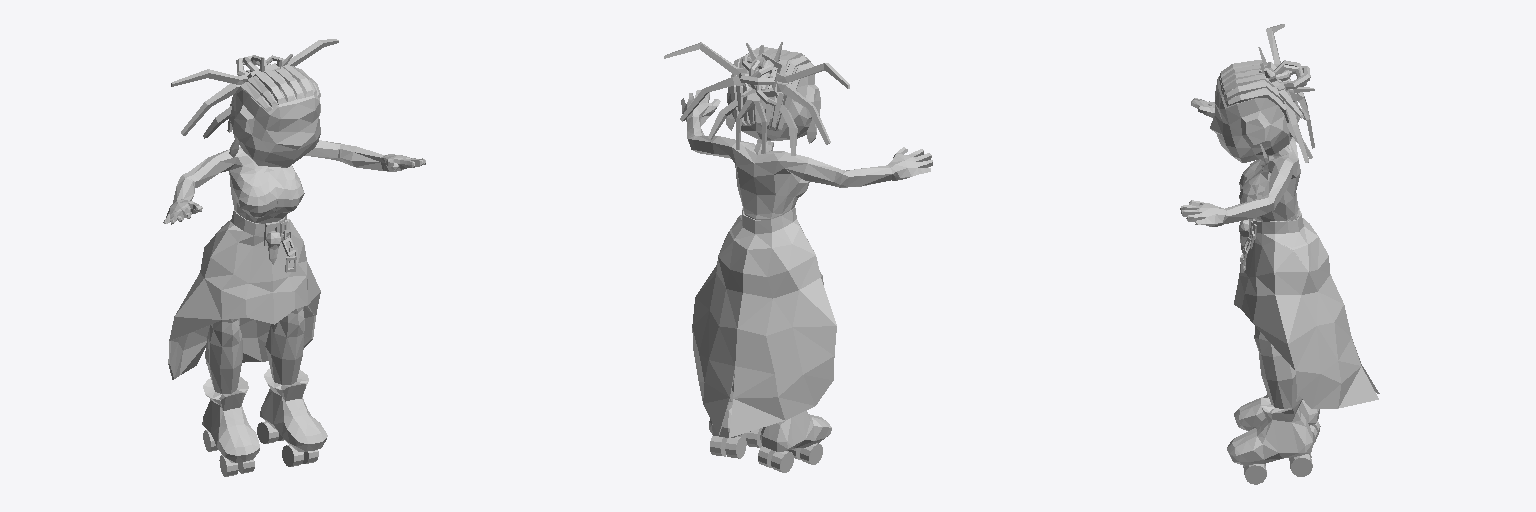
The model's file is bruja_000155.obj.
The picture shows the model from 3 angles: view 1: azimuth 30°, elevation 25°; view 2: azimuth 150°, elevation 25°; view 3: azimuth 270°, elevation 25°; orthographic projection.
Visible parts, largest first — view 1: Bruja_Plane.001; view 2: Bruja_Plane.001; view 3: Bruja_Plane.001.
Part boxes in pixels (left/top/right/bottom): Bruja_Plane.001: left=163, top=39, right=425, bottom=476; Bruja_Plane.001: left=664, top=42, right=932, bottom=472; Bruja_Plane.001: left=1180, top=24, right=1379, bottom=484.
Bounding box in the file's own units: 10.77 × 16.68 × 7.27.